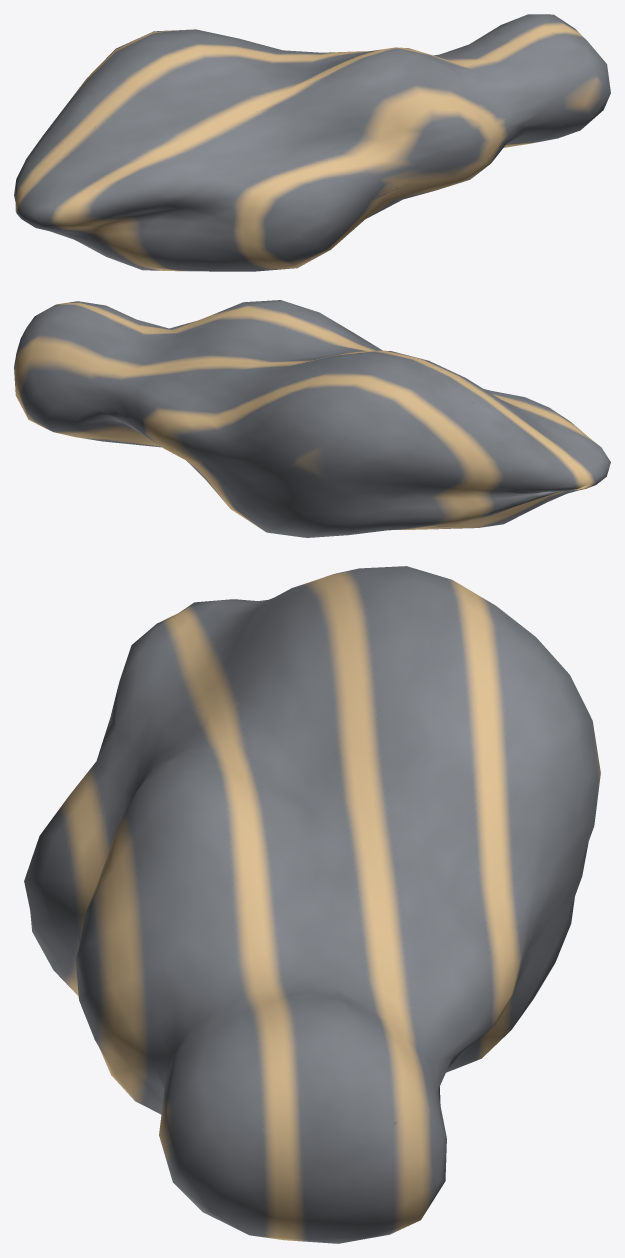
File: rock_slab_veined.glb
The picture shows the model from 3 angles, top to bottom: view 1: azimuth 30°, elevation 25°; view 2: azimuth 150°, elevation 25°; view 3: azimuth 270°, elevation 25°; orthographic projection. The views are drawn at different scales.
Visible parts, largest first — view 1: rock_slab_veined; view 2: rock_slab_veined; view 3: rock_slab_veined.
Part boxes in pixels (x1,y1,x2,y2): rock_slab_veined: [14, 14, 610, 271]; rock_slab_veined: [14, 300, 610, 537]; rock_slab_veined: [24, 566, 600, 1243].
Bounding box in the file's own units: 1.57 × 0.4696 × 0.6902.
1 material, 1 textured.
